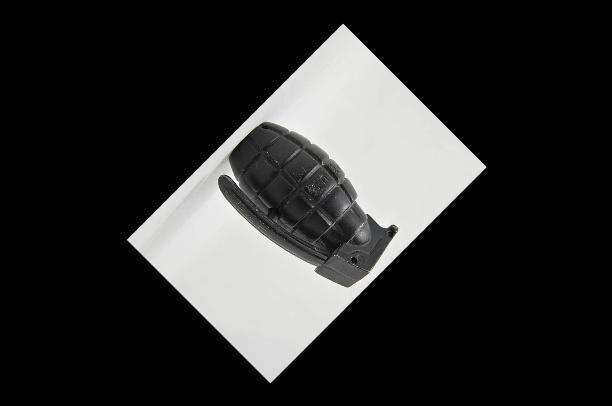Grenade: (216, 120, 398, 287)
